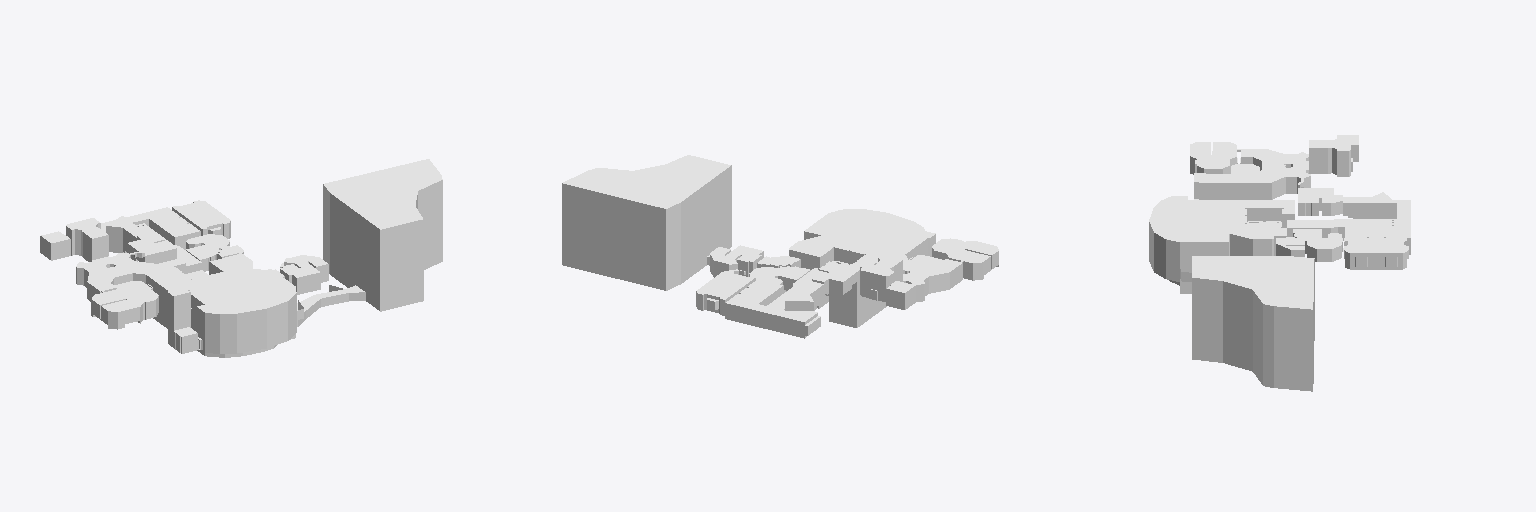
The model's file is strife1_MAP01.obj.
3 renders of one model, left to right at view 1: azimuth 30°, elevation 25°; view 2: azimuth 150°, elevation 25°; view 3: azimuth 270°, elevation 25°, orthographic.
Visible parts, largest first — view 1: MAP01; view 2: MAP01; view 3: MAP01.
Part boxes in pixels (left/top/right/bottom): MAP01: left=40, top=159, right=442, bottom=357; MAP01: left=562, top=155, right=998, bottom=338; MAP01: left=1149, top=135, right=1410, bottom=391.
Size of the model in its own units: 5888 by 1280 by 3520.